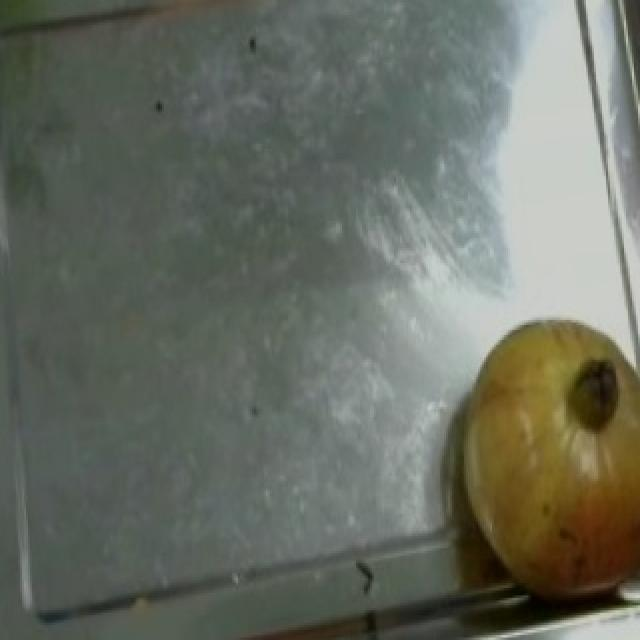fruit: (438, 290, 638, 504)
